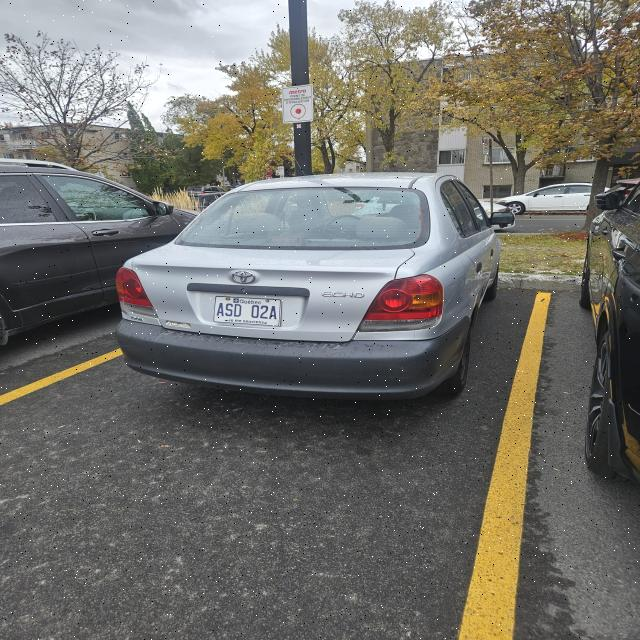plaque: (214, 296, 281, 326)
